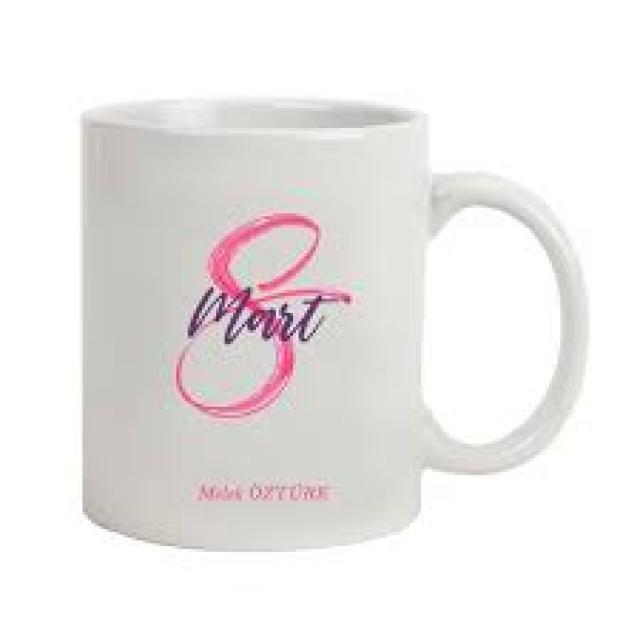taza: (81, 93, 590, 555)
